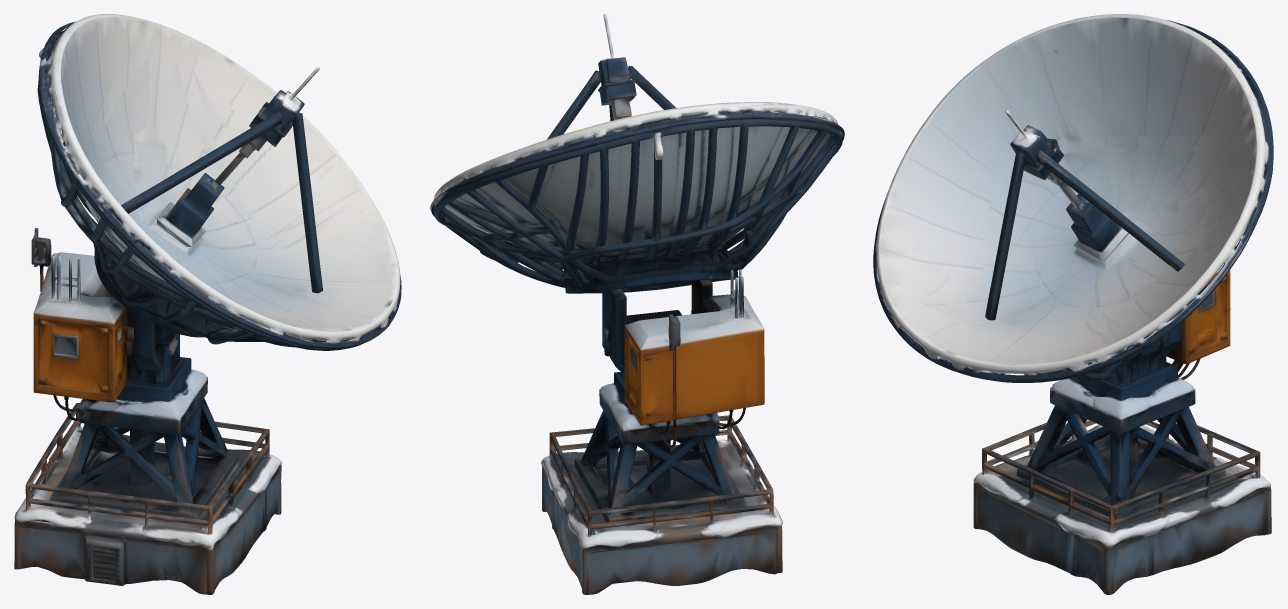
The model's file is polar-relay-radar.glb.
The picture shows the model from 3 angles, left to right: view 1: azimuth 30°, elevation 25°; view 2: azimuth 150°, elevation 25°; view 3: azimuth 270°, elevation 25°; orthographic projection. The views are drawn at different scales.
Visible parts, largest first — view 1: node_0; view 2: node_0; view 3: node_0.
Boxes of the visible parts, x1=… form: node_0: x1=14, y1=14, x2=401, y2=594; node_0: x1=430, y1=14, x2=844, y2=594; node_0: x1=873, y1=14, x2=1273, y2=594.
Bounding box in the file's own units: 0.714 × 0.9567 × 0.7188.
1 material, 1 textured.
